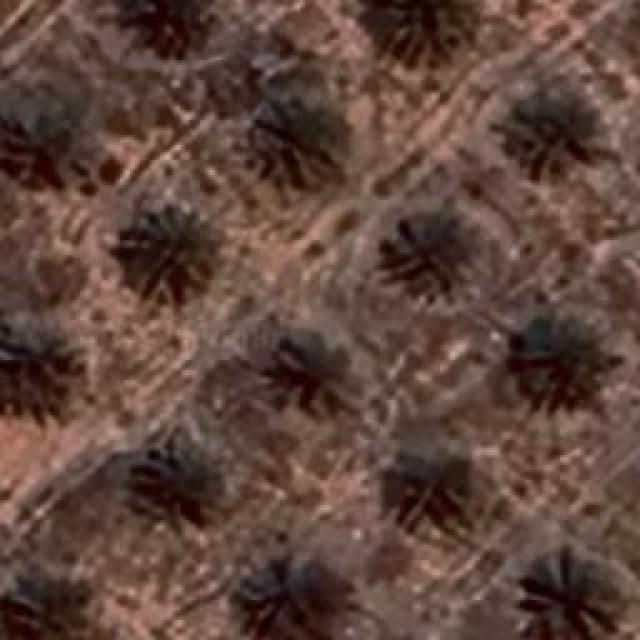PalmTree: (390, 434, 495, 534), (118, 202, 218, 300), (0, 96, 95, 196), (394, 200, 486, 302), (505, 82, 600, 180), (240, 90, 342, 180), (232, 565, 342, 640), (524, 552, 618, 638), (0, 320, 85, 415), (520, 318, 612, 400), (136, 435, 222, 515), (0, 572, 100, 640), (378, 0, 482, 60), (275, 332, 355, 410), (111, 0, 226, 52)
